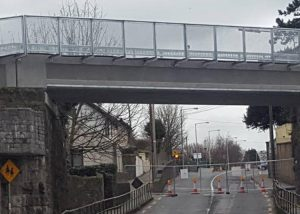bridge: (1, 13, 300, 109)
